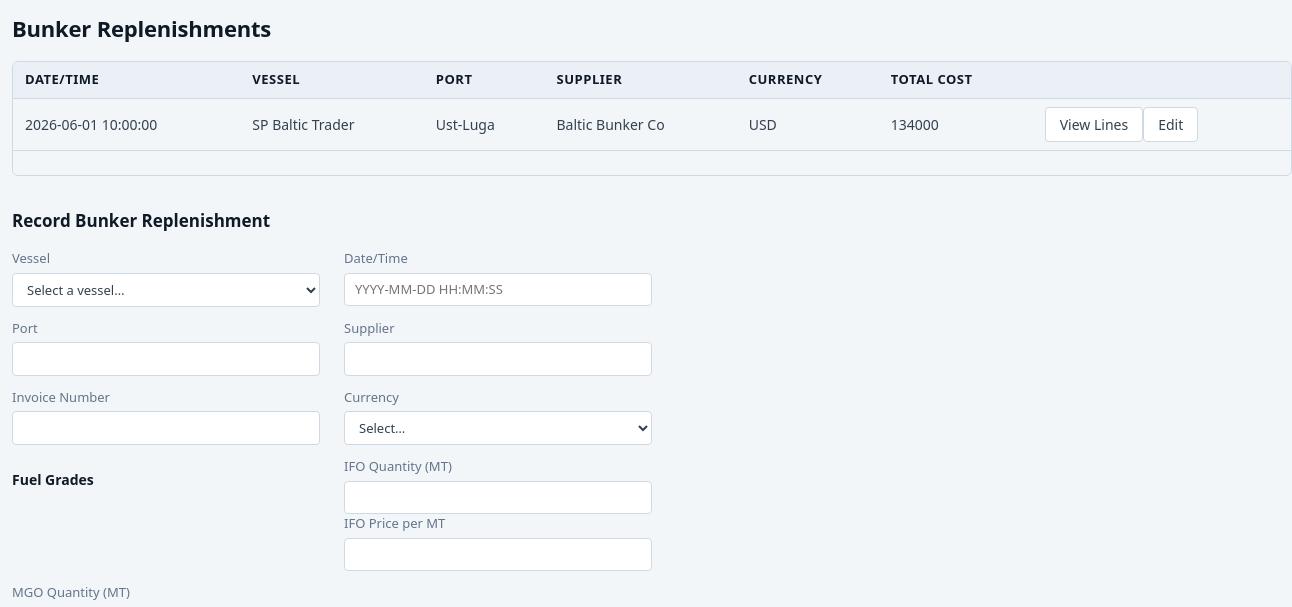
Test: BunkerReplenishmentsPage › lets the operator view the itemized lines for a replenishment
This screenshot has width=1292, height=607.
Expected: the text "Ust-Luga" is shown, [424,98,544,150]
What coordinates should you click on to do the following:
click the button "View Lines"
I would click on:
 (1094, 124)
Its box is [1045,106,1143,142].
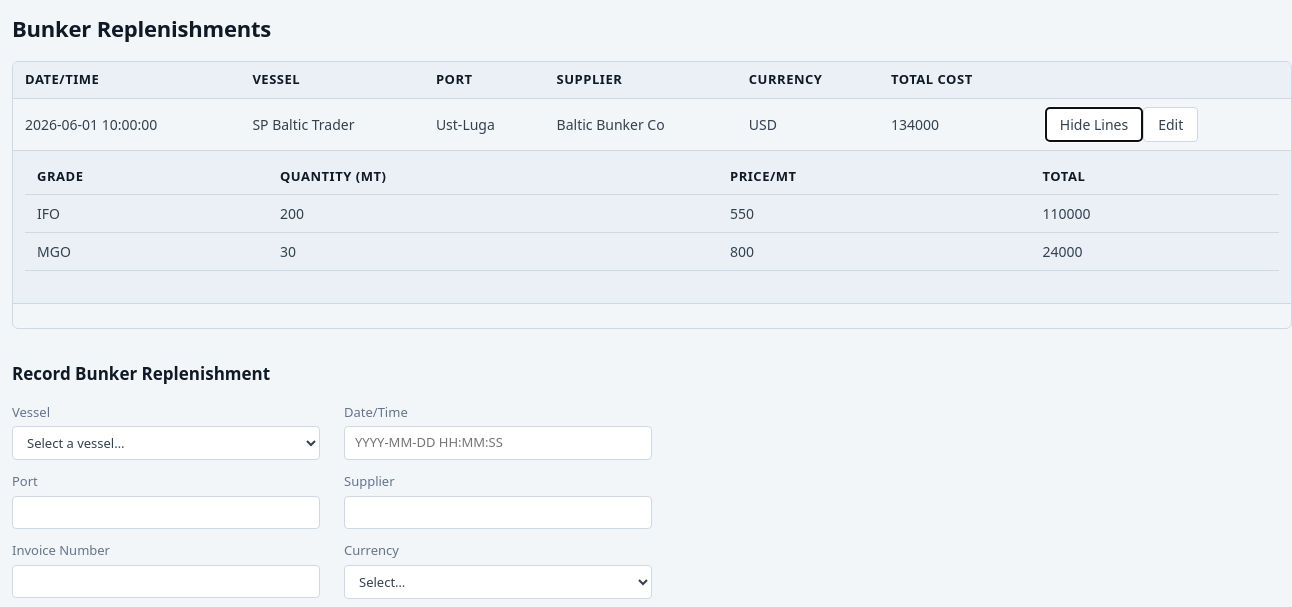
Expected: the text "110000" is shown, [1031,194,1279,232]
Expected: the text "24000" is shown, [1031,232,1279,270]
